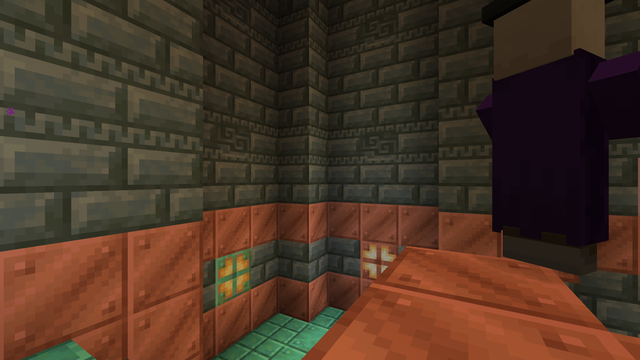sorcieres: (493, 1, 625, 285)
